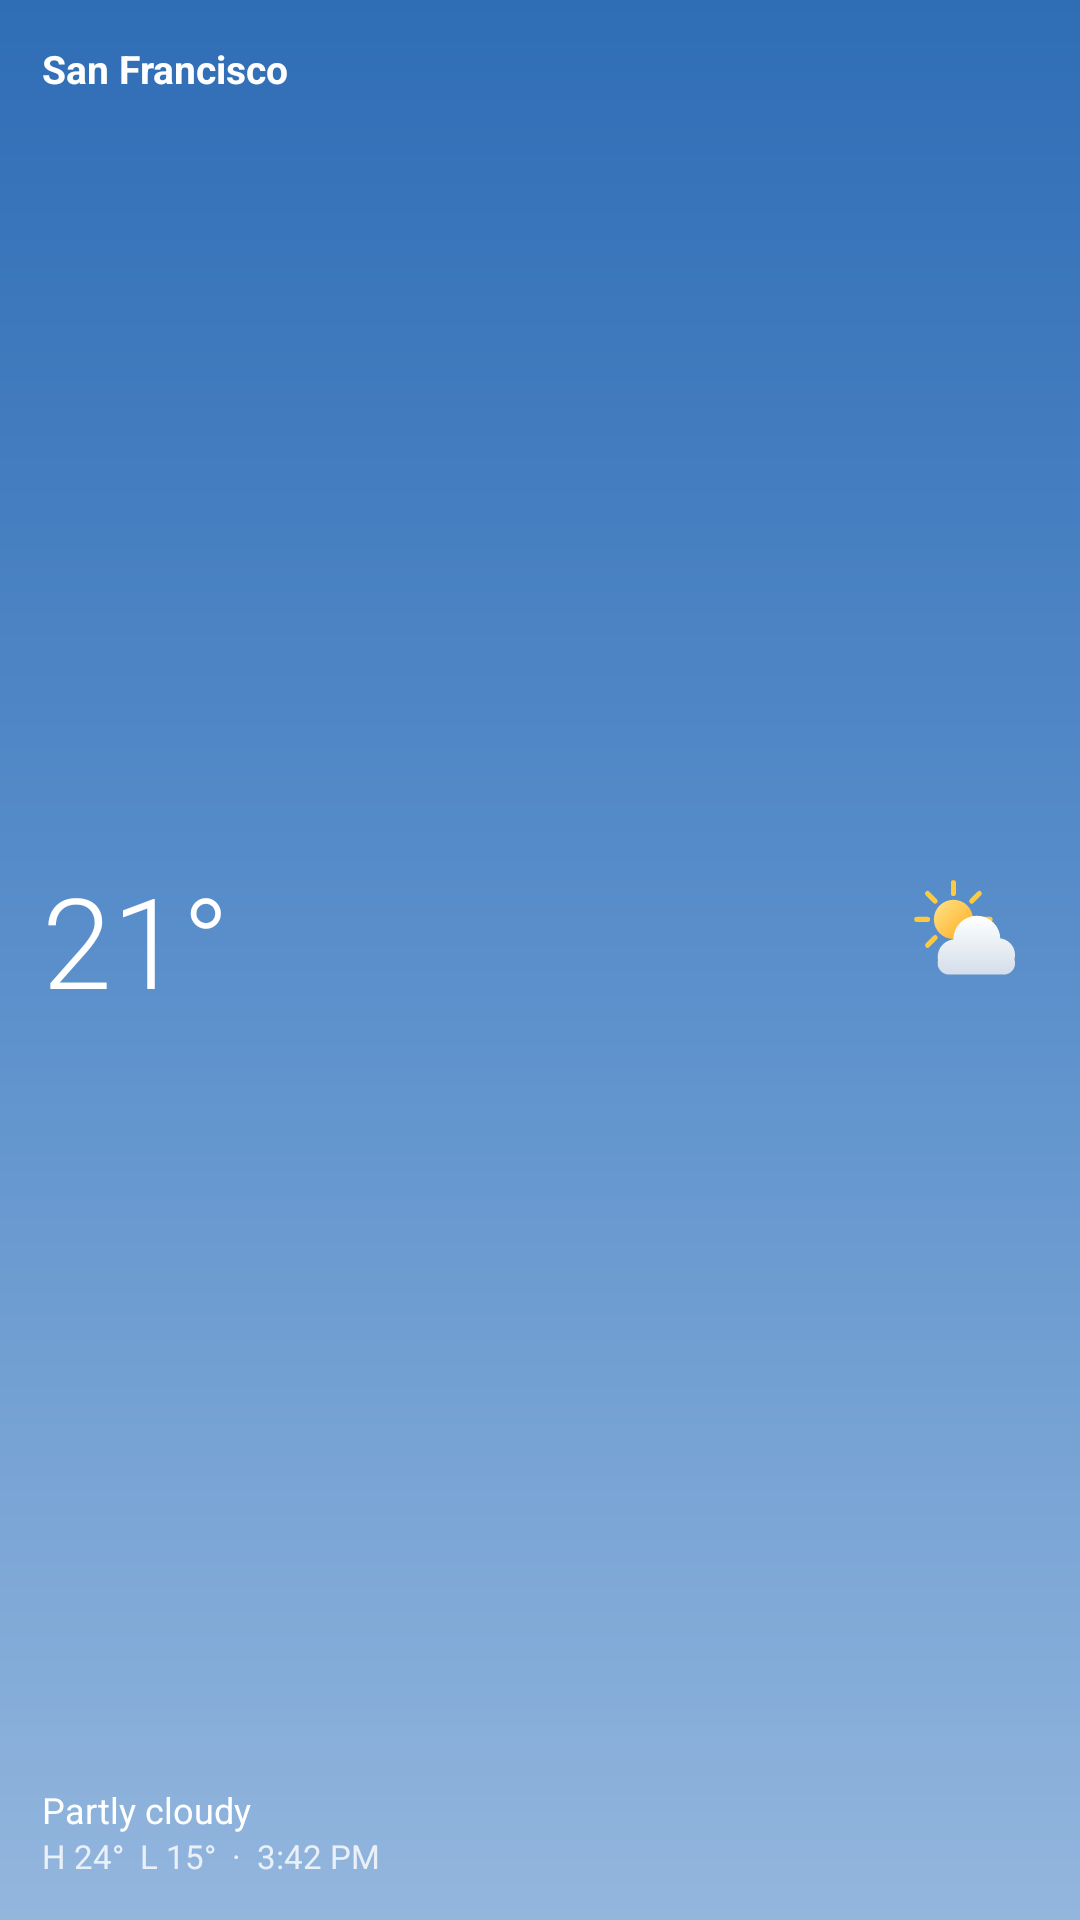

Icons on this 1080px×1920px Android screen, each with its box as (x1=x1, y1=y1, x2=x2, y2=y2):
Partly cloudy: (x1=914, y1=880, x2=1015, y2=975)
